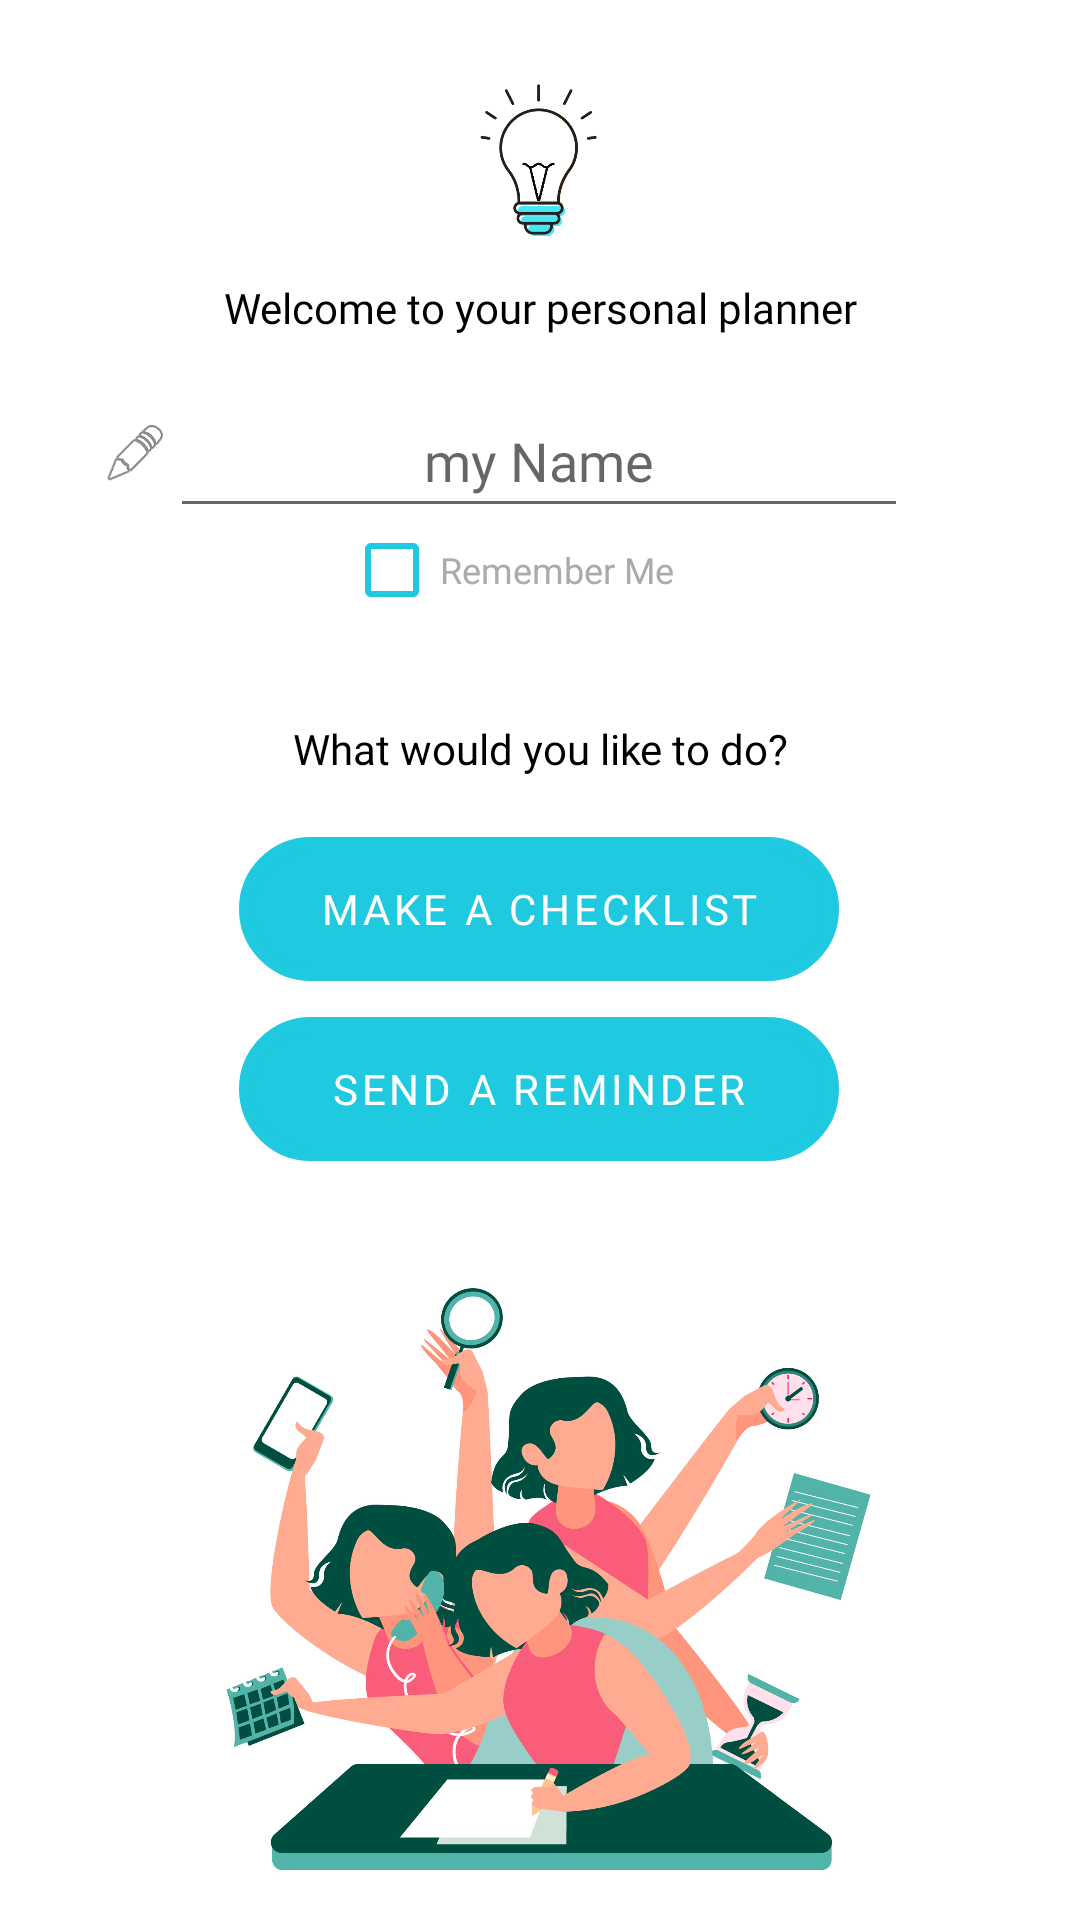

Where to tap for icons on this 1080×1920 app screen, as (x=x, y=y):
bulb: (x=538, y=160)
edit: (x=135, y=453)
